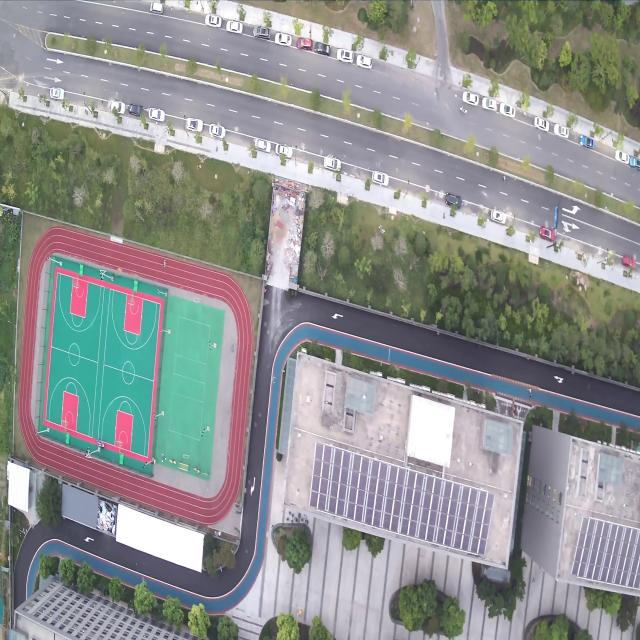UAV: (270, 373, 276, 383)
